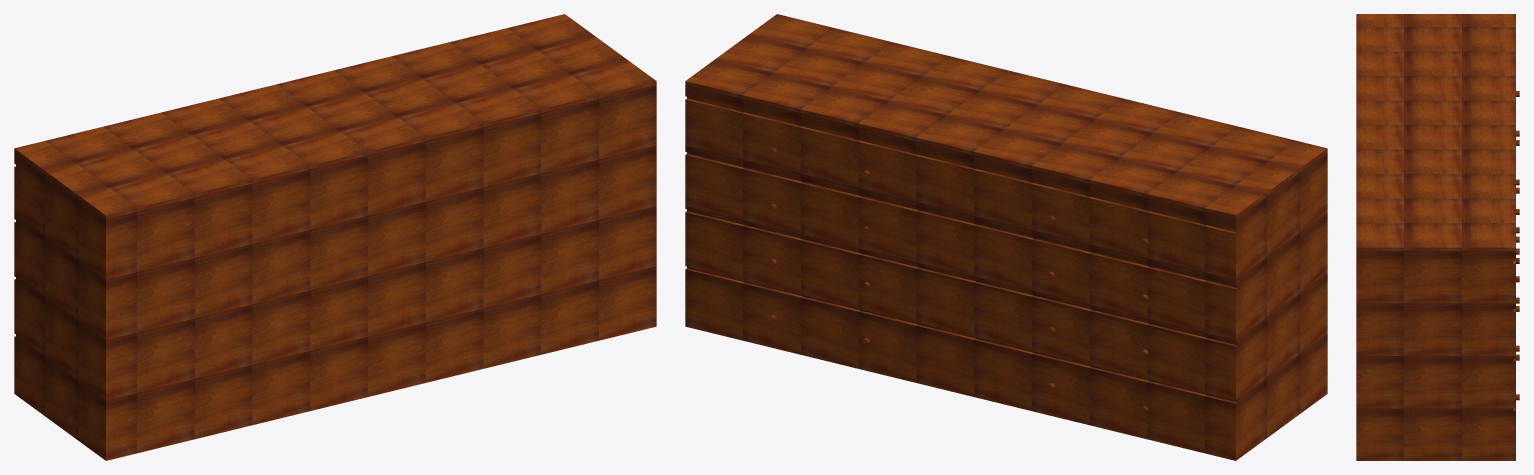
The picture shows the model from 3 angles, left to right: view 1: azimuth 30°, elevation 25°; view 2: azimuth 150°, elevation 25°; view 3: azimuth 270°, elevation 25°; orthographic projection. The views are drawn at different scales.
Visible parts, largest first — view 1: mesh2_mesh2-geometry; view 2: mesh2_mesh2-geometry; view 3: mesh2_mesh2-geometry.
Boxes of the visible parts, x1,y1,x2,y2 form: mesh2_mesh2-geometry: [14, 14, 656, 460]; mesh2_mesh2-geometry: [685, 14, 1327, 460]; mesh2_mesh2-geometry: [1356, 14, 1519, 460].
Bounding box in the file's own units: 0.8877 × 0.378 × 0.2628.
